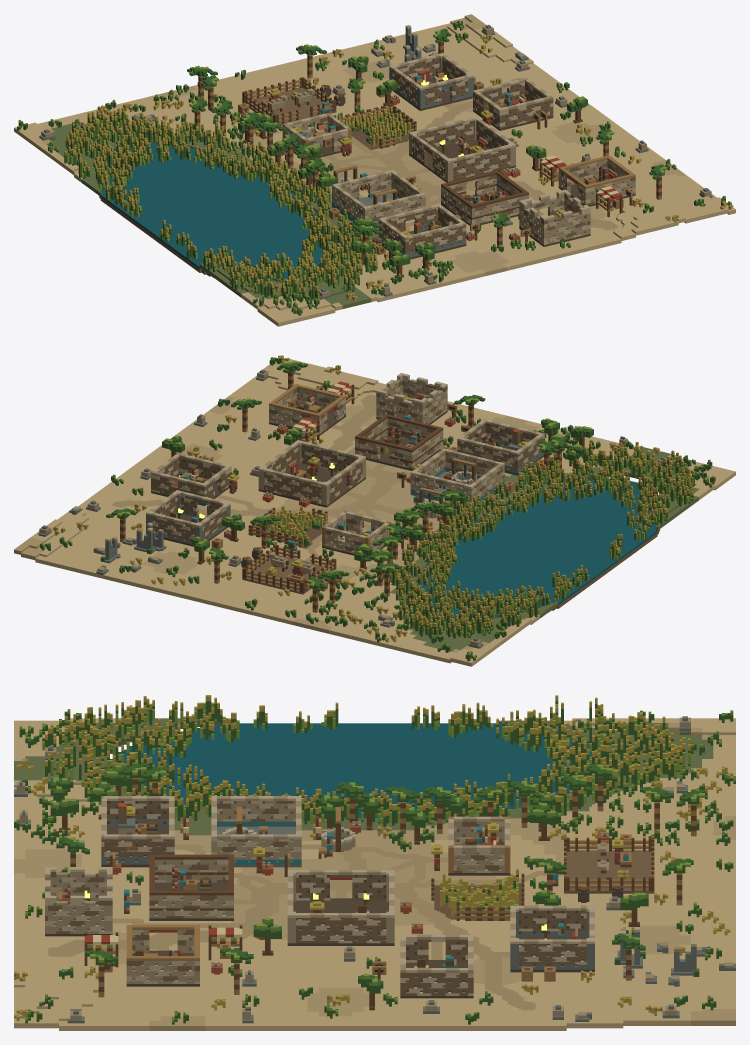
File: town.fbx
The picture shows the model from 3 angles, top to bottom: view 1: azimuth 30°, elevation 25°; view 2: azimuth 150°, elevation 25°; view 3: azimuth 270°, elevation 25°; orthographic projection. The views are drawn at different scales.
Visible parts, largest first — view 1: oasis, terrain_1_-2, building-003-meeting_house_meeting_house, terrain_1_-1, terrain_1_1, terrain_0_1, terrain_-1_-2, terrain_-2_-2, terrain_0_-2, building-002-bathhouse_bathhouse, building-005-shrine_shrine, terrain_-1_1 (+14 smaller); view 2: oasis, terrain_1_1, terrain_0_1, terrain_-1_1, building-003-meeting_house_meeting_house, terrain_1_-1, terrain_1_-2, terrain_-2_1, building-004-storehouse_storehouse, building-005-shrine_shrine, building-002-bathhouse_bathhouse, terrain_0_0 (+13 smaller); view 3: oasis, terrain_1_-1, terrain_1_-2, terrain_1_1, terrain_1_0, terrain_0_1, building-003-meeting_house_meeting_house, terrain_-1_1, terrain_0_0, building-002-bathhouse_bathhouse, terrain_-1_-2, building-005-shrine_shrine (+30 smaller).
Boxes of the visible parts, x1,y1,x2,y2 form: oasis: (100,143,337,278); terrain_1_-2: (556,163,735,240); building-003-meeting_house_meeting_house: (409,116,515,182); terrain_1_-1: (507,114,666,190); terrain_1_1: (357,14,537,81); terrain_0_1: (245,46,402,115); terrain_-1_-2: (340,225,506,298); terrain_-2_-2: (212,258,392,326); terrain_0_-2: (462,191,621,270); building-002-bathhouse_bathhouse: (332,170,425,228); building-005-shrine_shrine: (389,53,473,110); terrain_-1_1: (129,74,282,150); oasis: (418,479,658,618); terrain_1_1: (14,505,179,584); terrain_0_1: (128,537,308,612); terrain_-1_1: (243,561,416,640); building-003-meeting_house_meeting_house: (258,440,365,507); terrain_1_-1: (146,408,326,483); terrain_1_-2: (212,358,386,435); terrain_-2_1: (357,601,537,666); building-004-storehouse_storehouse: (355,414,443,470); building-005-shrine_shrine: (146,490,230,546); building-002-bathhouse_bathhouse: (410,448,504,507); terrain_0_0: (214,486,374,560); oasis: (110,723,614,818); terrain_1_-1: (194,949,374,1030); terrain_1_-2: (14,947,194,1030); terrain_1_1: (555,949,735,1030); terrain_1_0: (375,949,555,1030); terrain_0_1: (555,873,735,949); building-003-meeting_house_meeting_house: (287,870,394,945); terrain_-1_1: (555,797,735,873); terrain_0_0: (375,873,555,949); building-002-bathhouse_bathhouse: (211,796,301,867); terrain_-1_-2: (14,794,194,873); building-005-shrine_shrine: (510,905,594,972).
Size of the model in its own units: 6400 by 500 by 6400.
